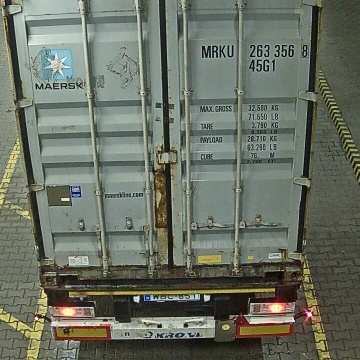serial_id: (202, 44, 310, 57)
